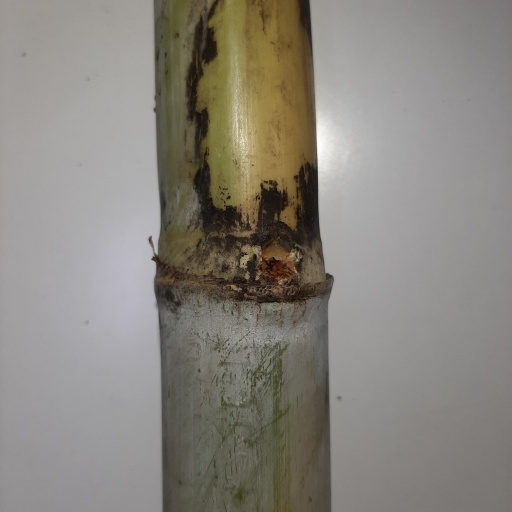Damage_Bud: (258, 242, 297, 286)
